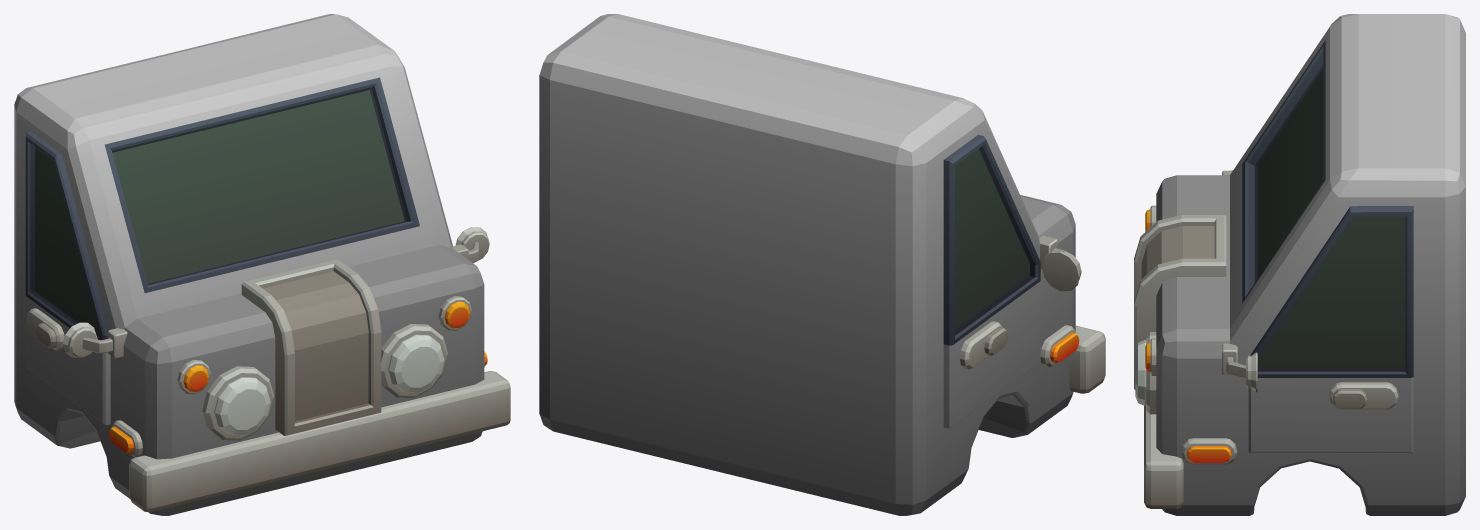
The model's file is sp_build_prop_carfront_03.fbx.
The picture shows the model from 3 angles, left to right: view 1: azimuth 30°, elevation 25°; view 2: azimuth 150°, elevation 25°; view 3: azimuth 270°, elevation 25°; orthographic projection. The views are drawn at different scales.
Parts seen in each view (by area): view 1: build_prop_carfront_03; view 2: build_prop_carfront_03; view 3: build_prop_carfront_03.
Part boxes in pixels (x1,y1,x2,y2): build_prop_carfront_03: (14,14,510,515); build_prop_carfront_03: (539,14,1105,515); build_prop_carfront_03: (1134,14,1465,515).
Size of the model in its own units: 283 by 212 by 183.
